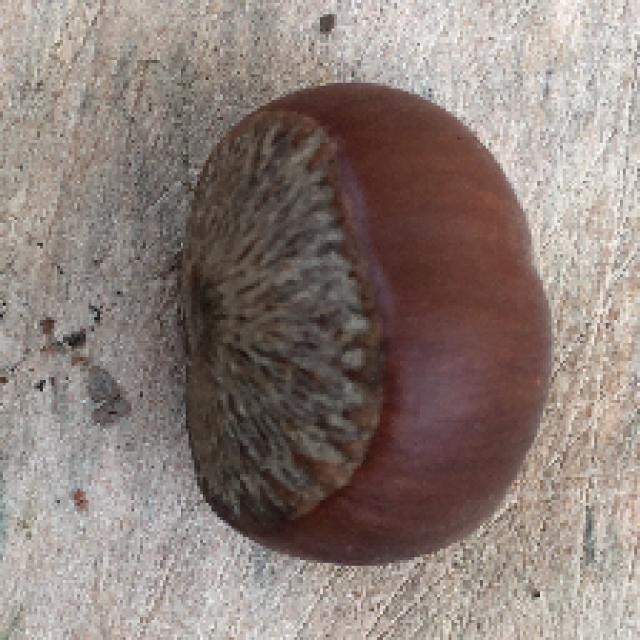damagedHazelnut: (172, 78, 562, 570)
